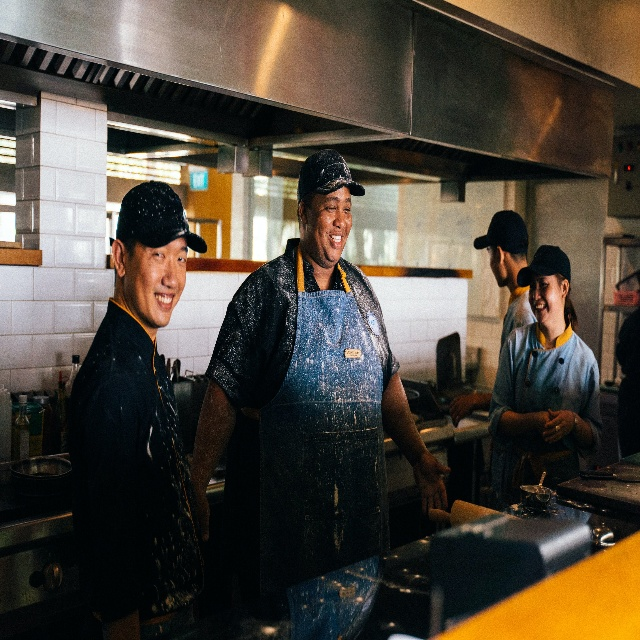Sin_guantes: (412, 452, 453, 515), (542, 408, 574, 444), (191, 486, 210, 543), (449, 393, 475, 427), (535, 410, 550, 436)
